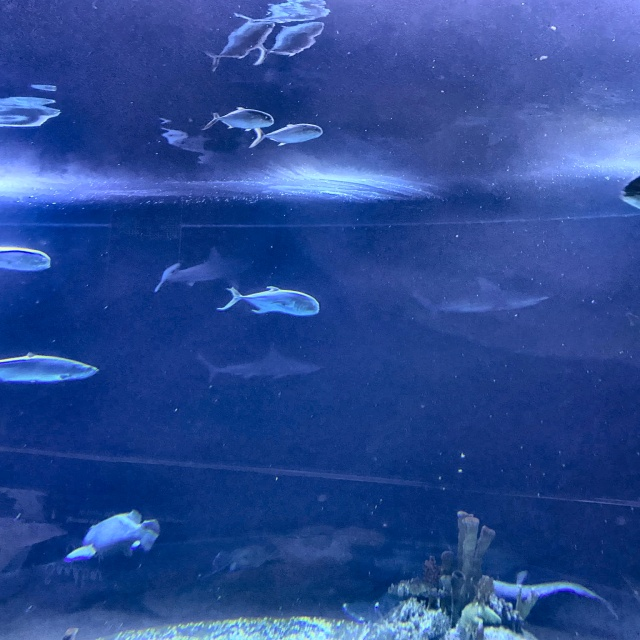fish: (67, 508, 162, 569), (222, 284, 322, 321), (0, 353, 100, 388), (243, 25, 331, 62), (206, 22, 273, 65), (1, 89, 59, 131), (252, 124, 326, 151), (250, 2, 337, 24), (207, 109, 273, 132), (0, 247, 56, 274), (615, 171, 639, 217)
shark: (413, 276, 560, 314), (153, 242, 259, 289), (196, 346, 321, 383)
